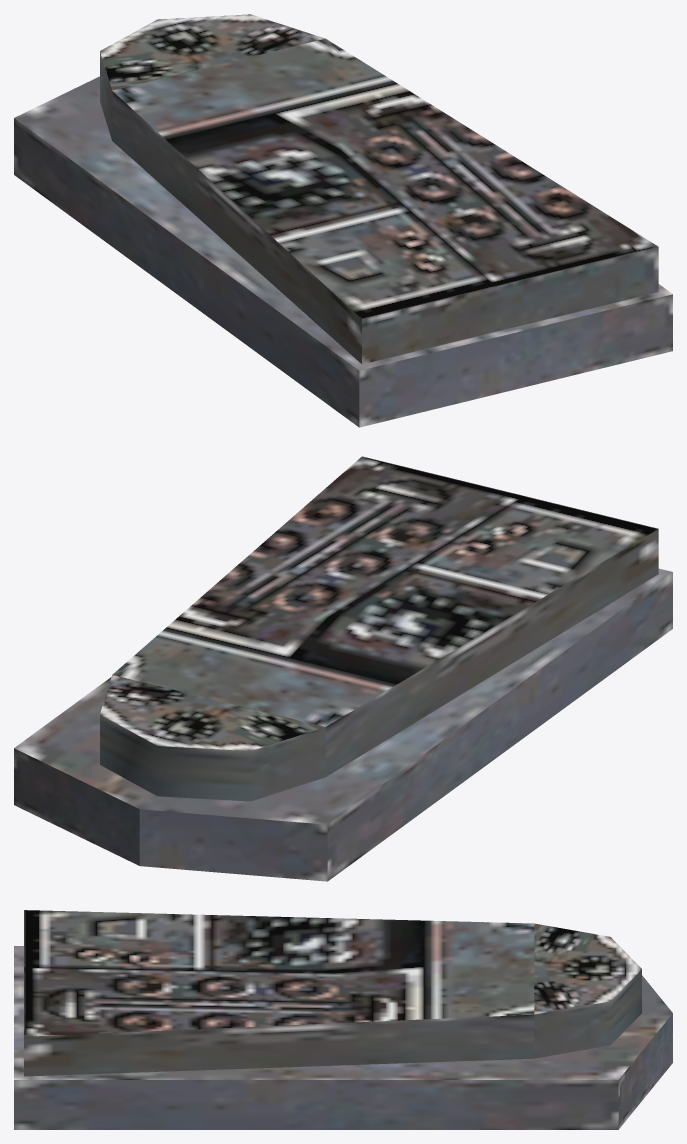
The model's file is eqp_tool_impulse_detector_s2_l2.fbx.
3 renders of one model, top to bottom at view 1: azimuth 30°, elevation 25°; view 2: azimuth 150°, elevation 25°; view 3: azimuth 270°, elevation 25°, orthographic. The views are drawn at different scales.
Visible parts, largest first — view 1: mesh_node; view 2: mesh_node; view 3: mesh_node.
Boxes of the visible parts, bbox=[...] form: mesh_node: bbox=[14, 14, 672, 427]; mesh_node: bbox=[14, 456, 672, 881]; mesh_node: bbox=[14, 910, 672, 1129].
Size of the model in its own units: 0.0633 by 0.0207 by 0.1316.
